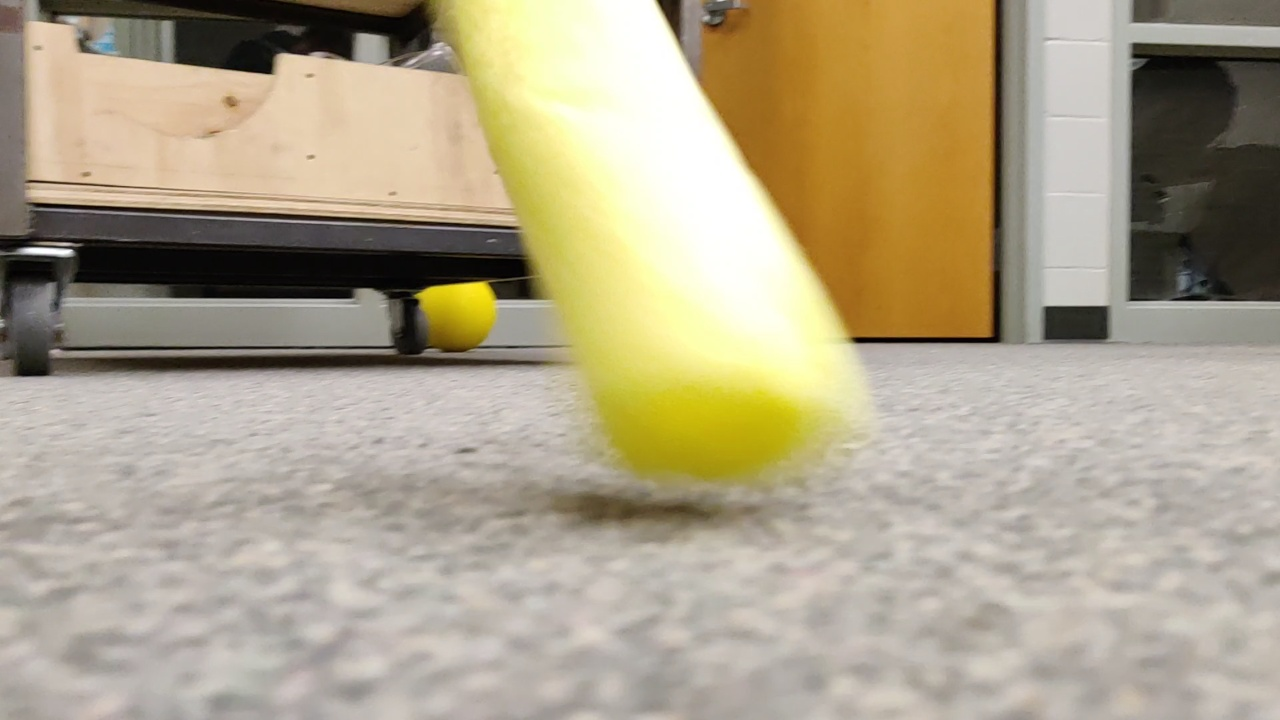Ball: (391, 272, 511, 356)
